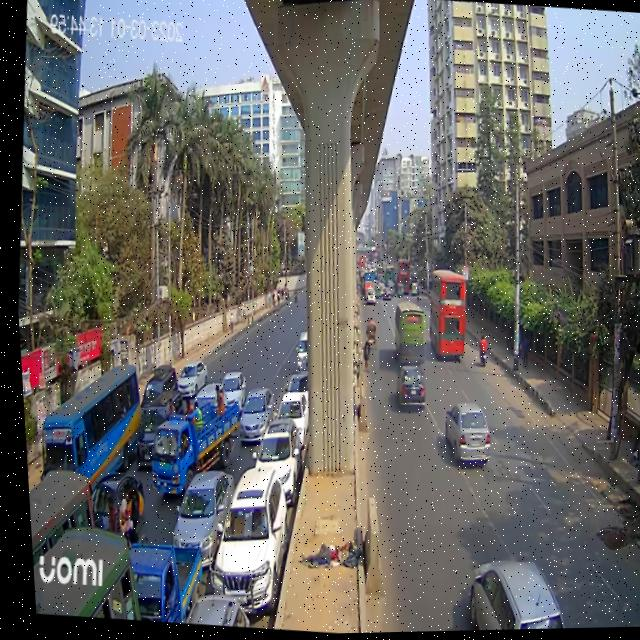rikshaw: (357, 317, 376, 357)
